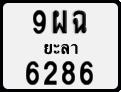letters: (42, 59, 58, 86), (51, 9, 68, 34), (71, 9, 88, 34), (31, 9, 47, 35), (24, 60, 40, 86), (79, 59, 94, 86), (61, 60, 76, 86)
province: (43, 42, 79, 56)
